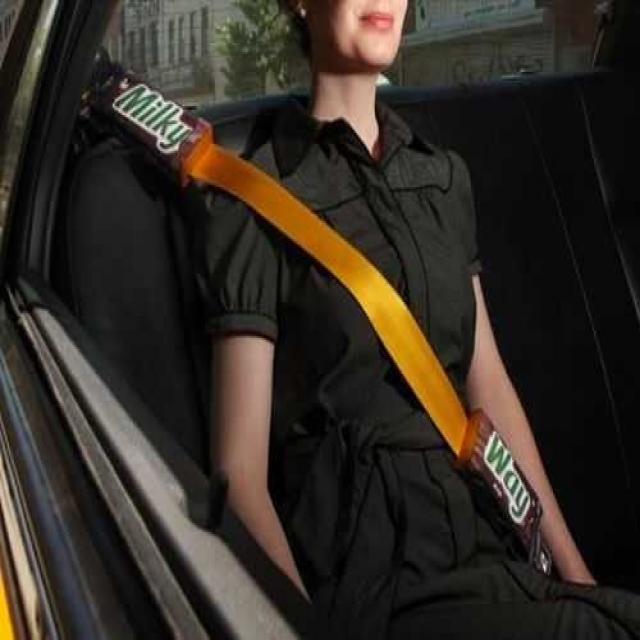seatbelt: (175, 120, 529, 483)
